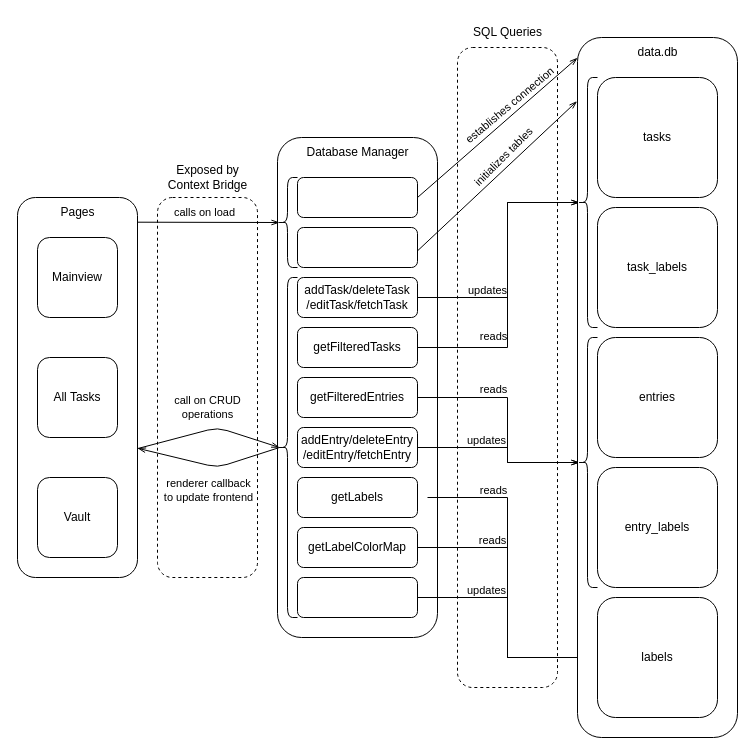
Image size: 755x755. Some labels were removed from this diagram. The shapes that lost their labels are listed below. From the top down, each one's centre as x and y in pixels, then its label:
the point at 357,197: connect
the point at 357,247: init
the point at 357,597: addLabel/deleteLabel
